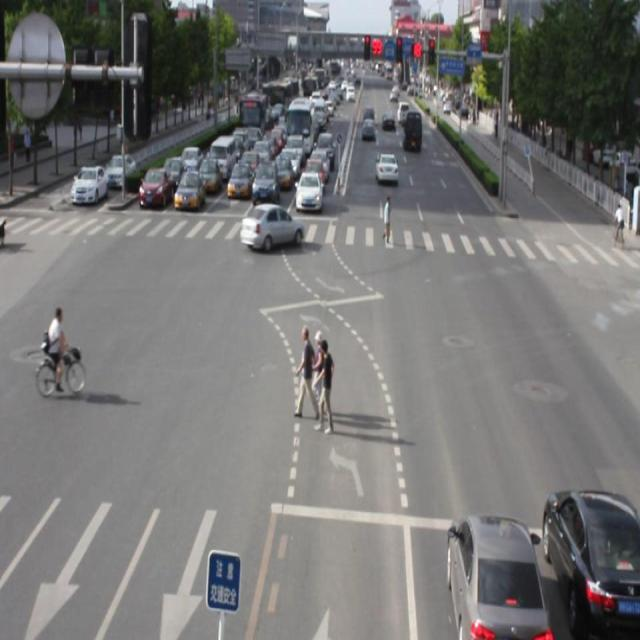car: (540, 488, 640, 639), (446, 514, 544, 640), (240, 202, 302, 250)
